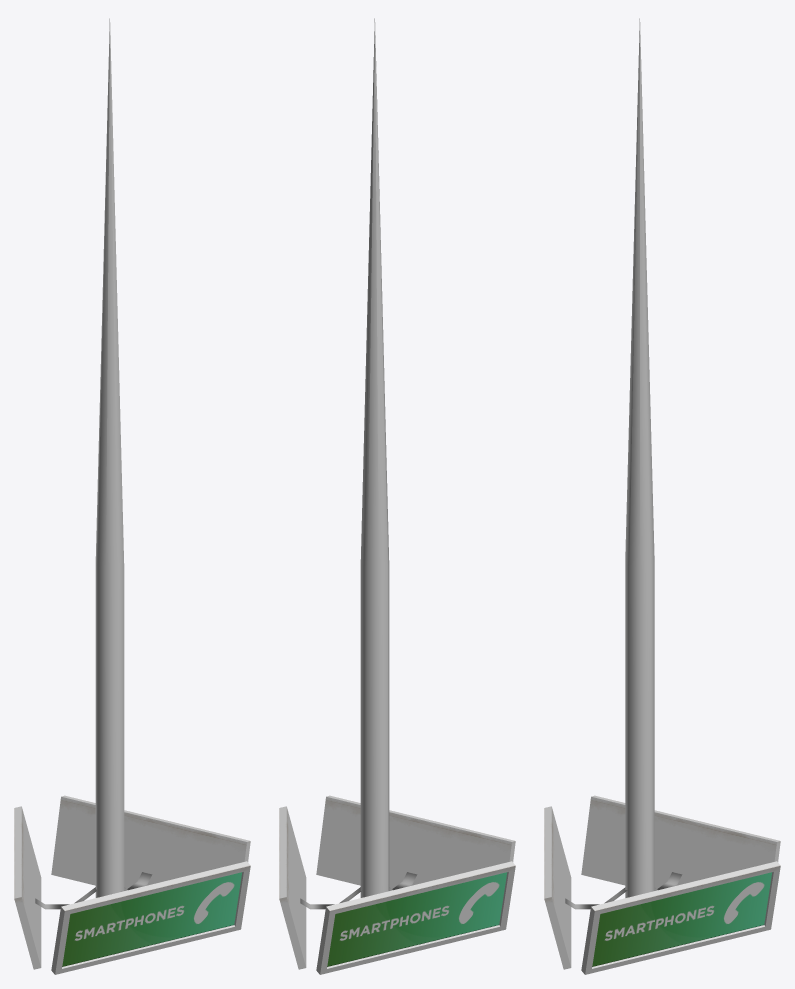
The model's file is Sign.fbx.
3 views of the same model, side by side, from view 1: azimuth 30°, elevation 25°; view 2: azimuth 150°, elevation 25°; view 3: azimuth 270°, elevation 25° (orthographic).
Visible parts, largest first — view 1: Sign; view 2: Sign; view 3: Sign.
Part boxes in pixels (x1,y1,x2,y2): Sign: (14, 18, 250, 974); Sign: (279, 18, 515, 974); Sign: (544, 18, 780, 974).
Size of the model in its own units: 1028 by 3779 by 890.
